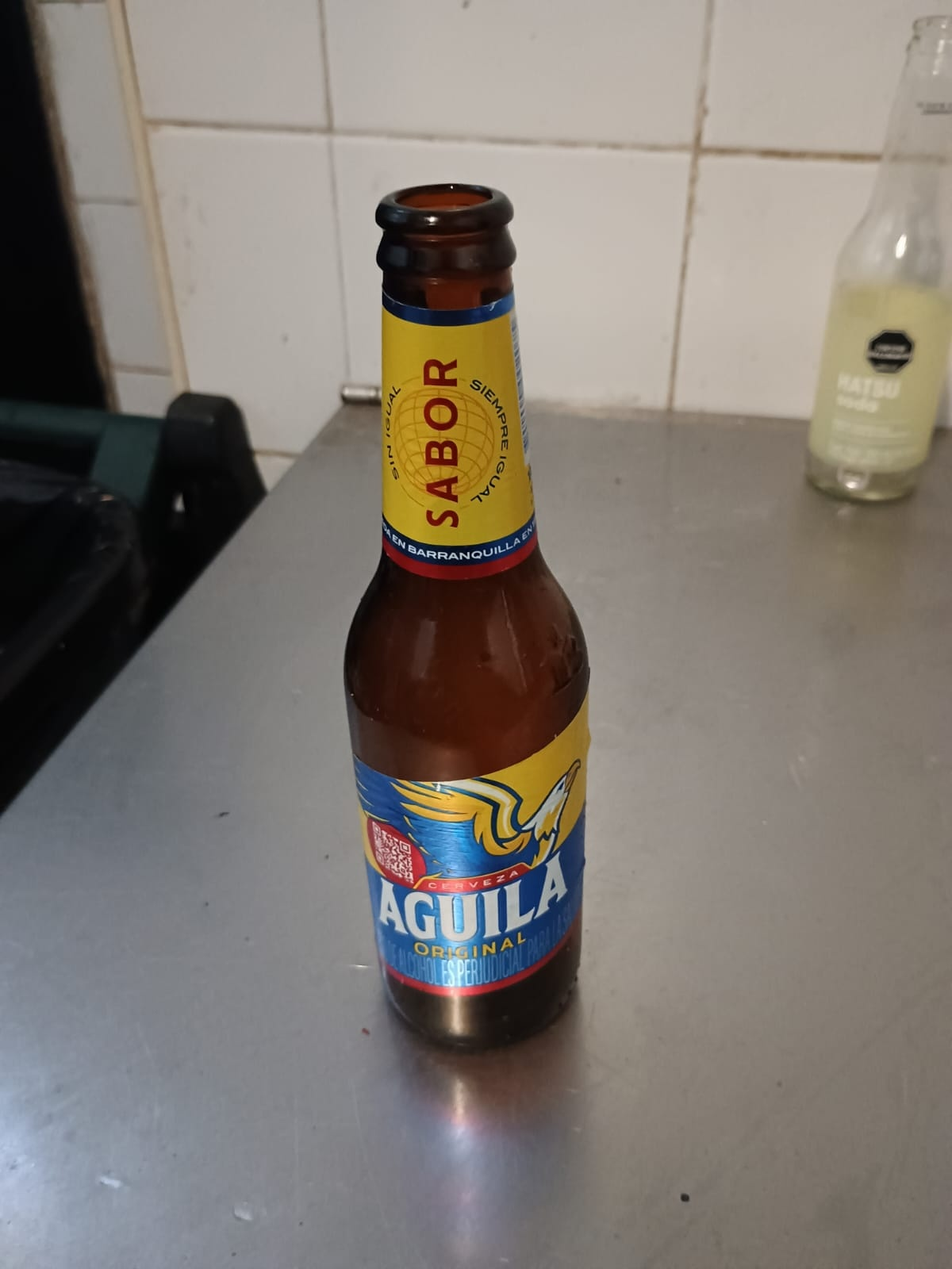Vidrio: (343, 181, 588, 1048), (809, 16, 952, 513)
